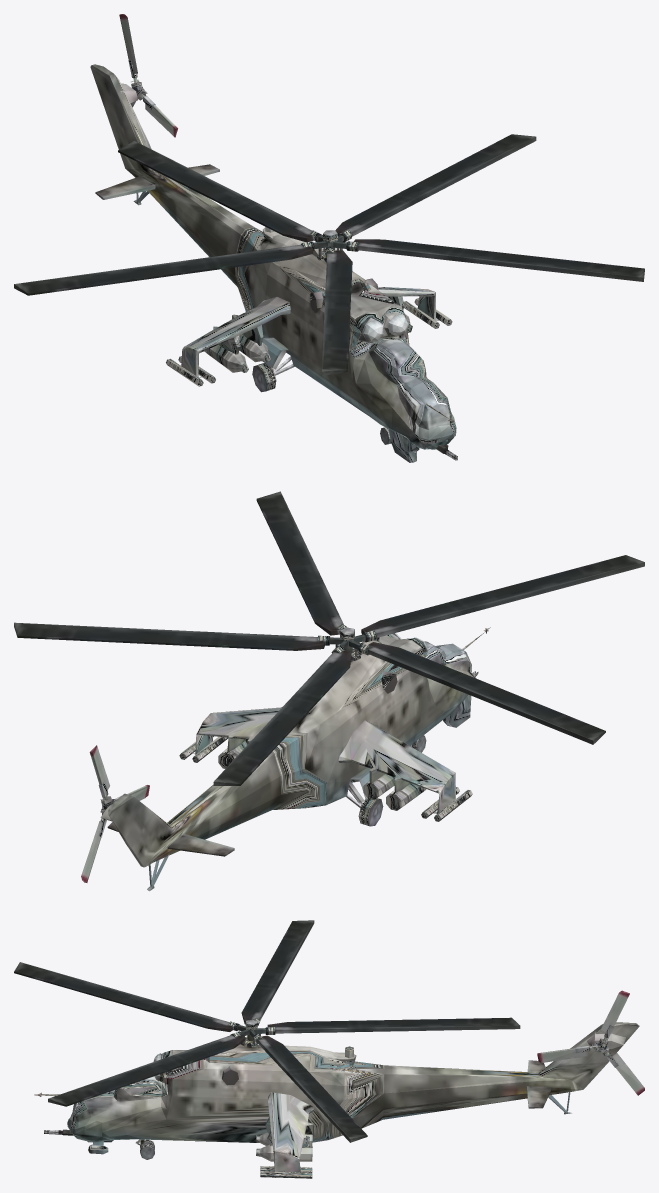
The picture shows the model from 3 angles, top to bottom: view 1: azimuth 30°, elevation 25°; view 2: azimuth 150°, elevation 25°; view 3: azimuth 270°, elevation 25°; orthographic projection. The views are drawn at different scales.
Parts seen in each view (by area): view 1: Body_lambert1_0; view 2: Body_lambert1_0; view 3: Body_lambert1_0.
Boxes of the visible parts, <box> form: Body_lambert1_0: <box>14,14,644,462</box>; Body_lambert1_0: <box>14,491,644,891</box>; Body_lambert1_0: <box>14,920,644,1178</box>.
Size of the model in its own units: 13.06 by 4.86 by 15.97.
1 material, 1 textured.
